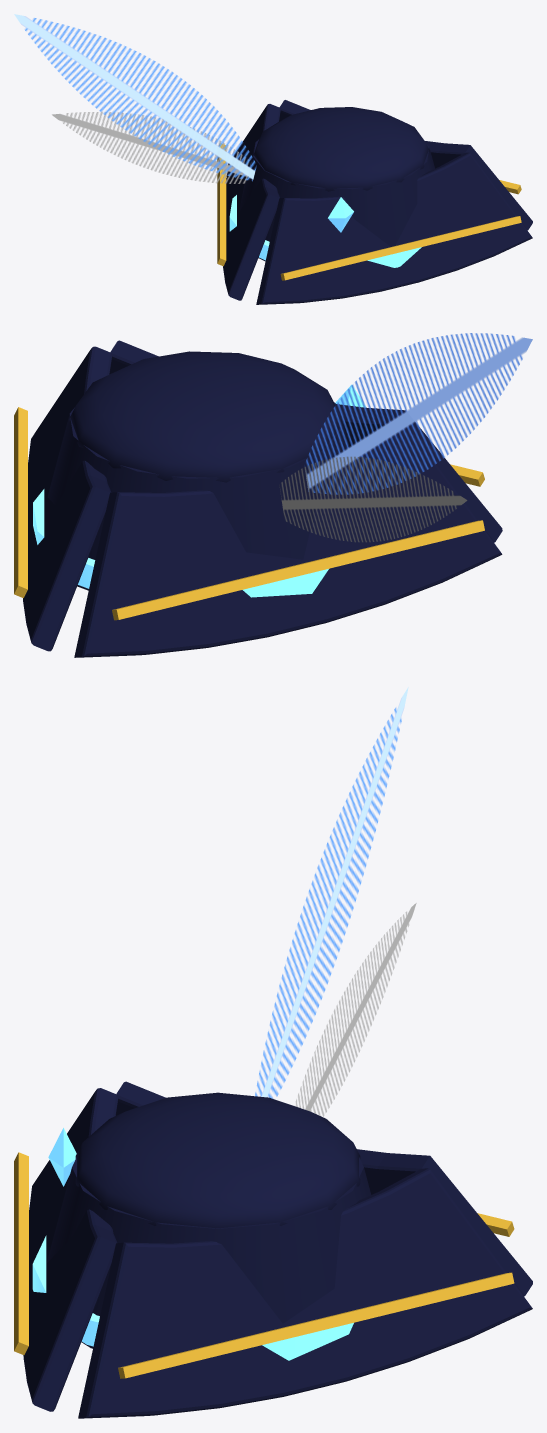
File: hat_eqen4.glb
3 renders of one model, top to bottom at view 1: azimuth 30°, elevation 25°; view 2: azimuth 150°, elevation 25°; view 3: azimuth 270°, elevation 25°, orthographic. The views are drawn at different scales.
Bounding box in the file's own units: 4.13 × 2.41 × 2.68.
Materials: 6 (2 with a texture image).
